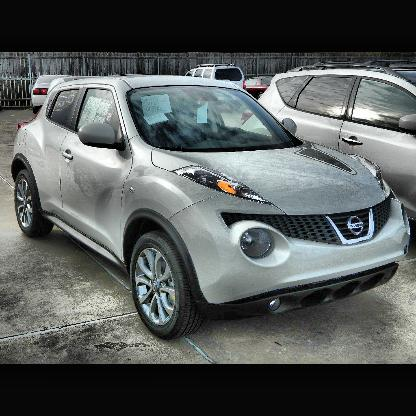Nissan Juke Hatchback 2012: (14, 77, 411, 341)
